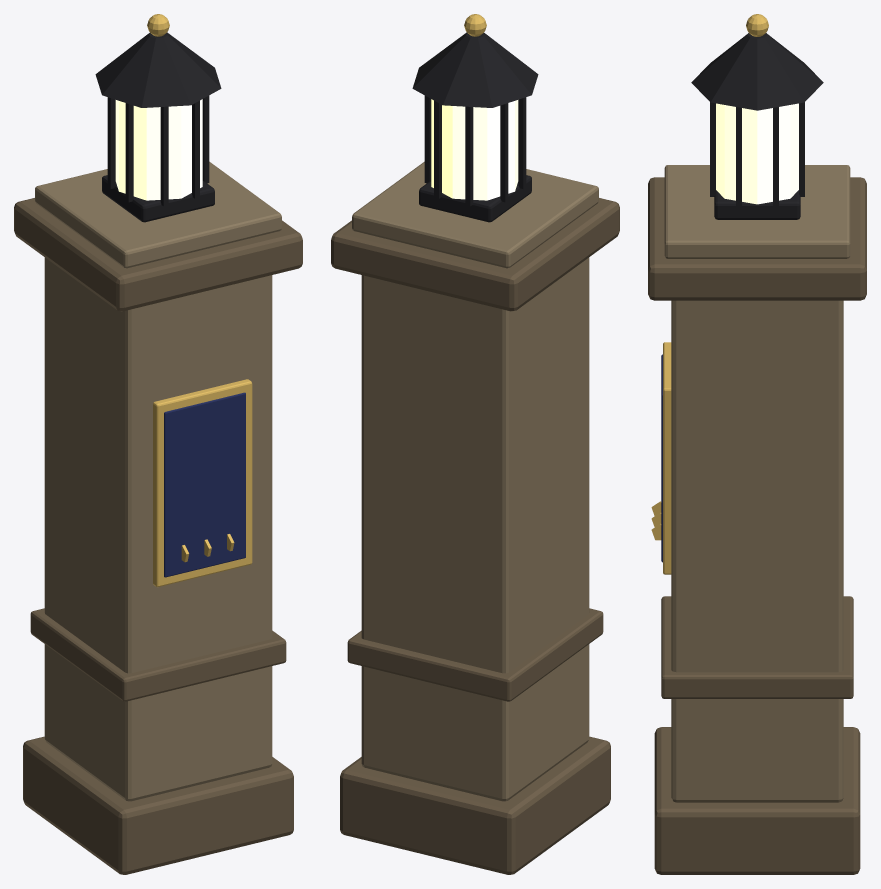
File: whitehouse_props.glb
3 views of the same model, side by side, from view 1: azimuth 30°, elevation 25°; view 2: azimuth 150°, elevation 25°; view 3: azimuth 270°, elevation 25° (orthographic).
Parts seen in each view (by area): view 1: Shaft, Pillar, Plaque, Cap, CapTop, Band, LanternRoof, LanternGlass, PlaqueFrame, LanternBase, Post5, Post4 (+3 smaller); view 2: Shaft, Pillar, Cap, CapTop, Band, LanternRoof, LanternGlass, LanternBase, Post2, Post3, Post4, Post1 (+1 smaller); view 3: Shaft, Pillar, CapTop, Cap, Band, LanternGlass, LanternRoof, PlaqueFrame, LanternBase, Post0, Post7, Post1 (+1 smaller).
Part boxes in pixels (box(x1,y1,x2,y2)): Shaft: box(44, 257, 272, 801); Pillar: box(23, 736, 293, 874); Plaque: box(164, 392, 245, 577); Cap: box(14, 198, 302, 311); CapTop: box(35, 161, 281, 268); Band: box(30, 608, 286, 701); LanternRoof: box(95, 32, 221, 107); LanternGlass: box(115, 99, 202, 200); PlaqueFrame: box(153, 379, 252, 586); LanternBase: box(102, 175, 214, 222); Post5: box(160, 106, 168, 206); Post4: box(125, 103, 133, 202); Shaft: box(361, 257, 589, 801); Pillar: box(340, 736, 610, 874); Cap: box(331, 198, 619, 311); CapTop: box(352, 161, 598, 268); Band: box(347, 608, 603, 701); LanternRoof: box(412, 32, 538, 107); LanternGlass: box(431, 99, 518, 200); LanternBase: box(419, 175, 531, 222); Post2: box(465, 106, 473, 206); Post3: box(500, 103, 508, 202); Post4: box(518, 97, 526, 189); Post1: box(434, 100, 441, 198); Shaft: box(671, 300, 843, 802); Pillar: box(654, 727, 860, 874); CapTop: box(664, 165, 850, 258); Cap: box(648, 177, 866, 300); Band: box(661, 596, 853, 698); LanternGlass: box(716, 103, 798, 204); LanternRoof: box(691, 33, 823, 110); PlaqueFrame: box(663, 342, 671, 574); LanternBase: box(714, 190, 800, 219); Post0: box(773, 107, 778, 207); Post7: box(736, 107, 741, 207); Post1: box(799, 102, 804, 196).
Size of the model in its own units: 0.66 by 2.73 by 0.66.
